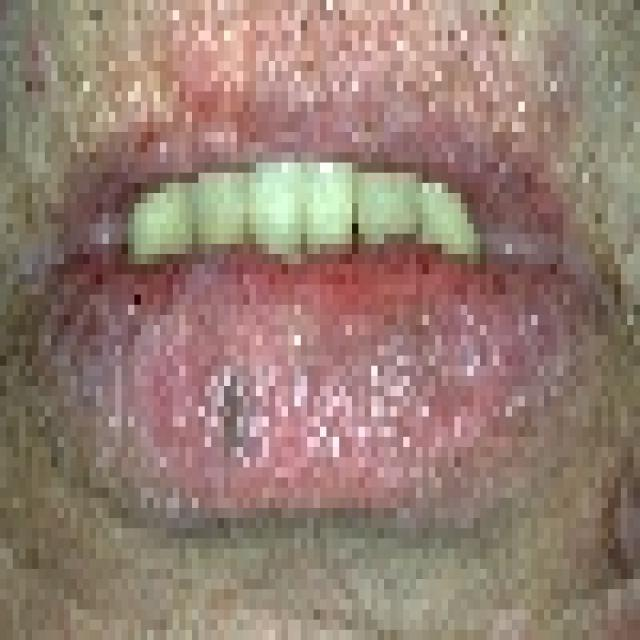lupus: (37, 253, 612, 548)
